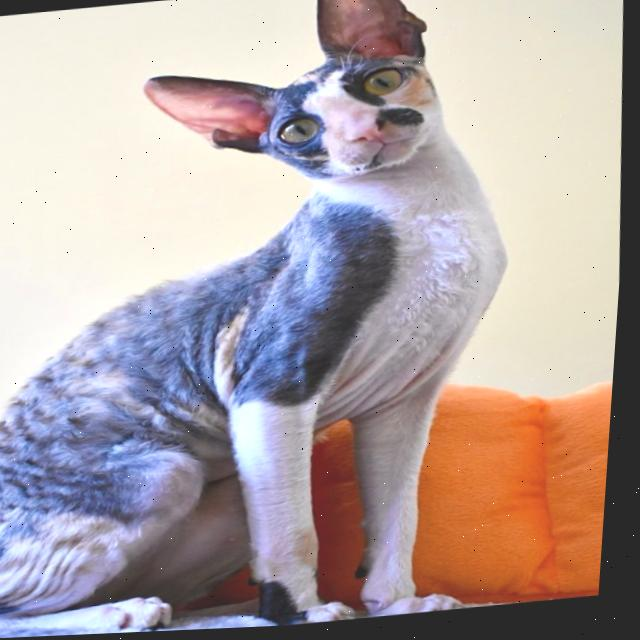Cornish Rex: (0, 0, 551, 640)
